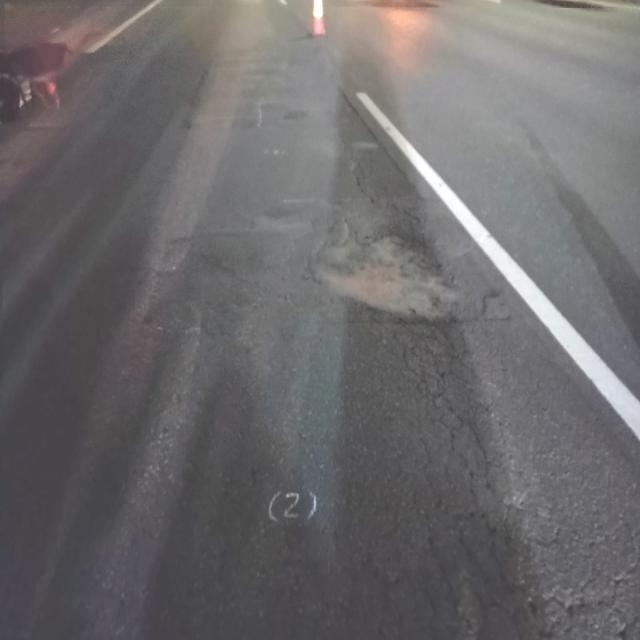Buraco: (301, 224, 472, 328), (530, 0, 610, 13), (366, 0, 442, 11)
